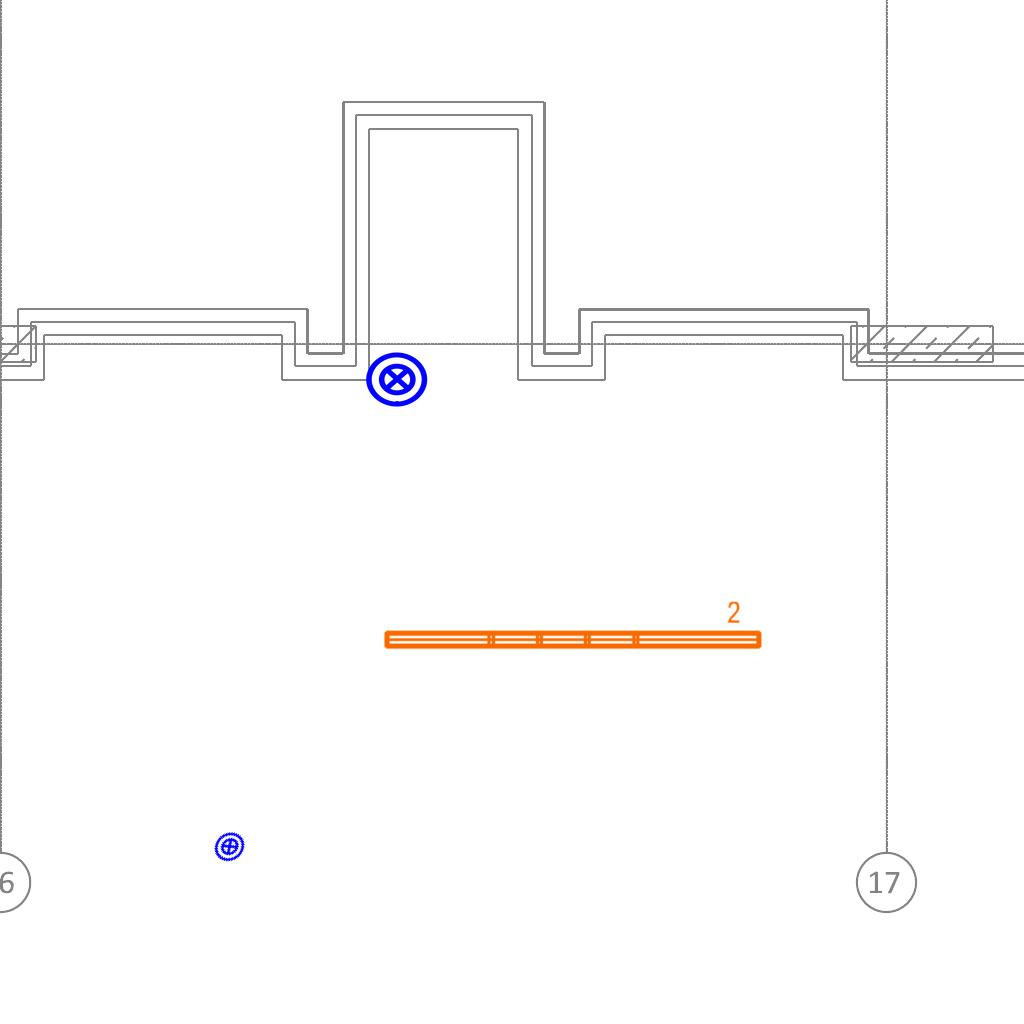Ambulanz_Pendelleuchte_LED: (379, 599, 766, 655)
Taster_beleuchtet: (364, 346, 430, 412), (206, 823, 253, 870)
